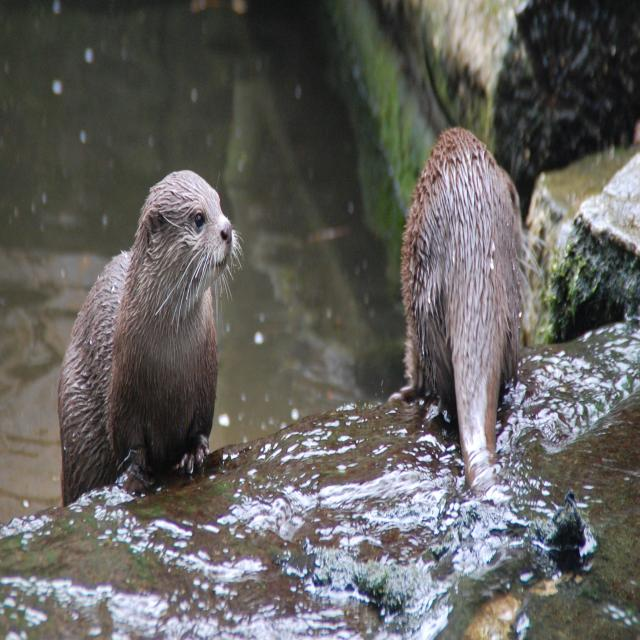otter: (59, 172, 234, 491), (403, 130, 525, 421)
